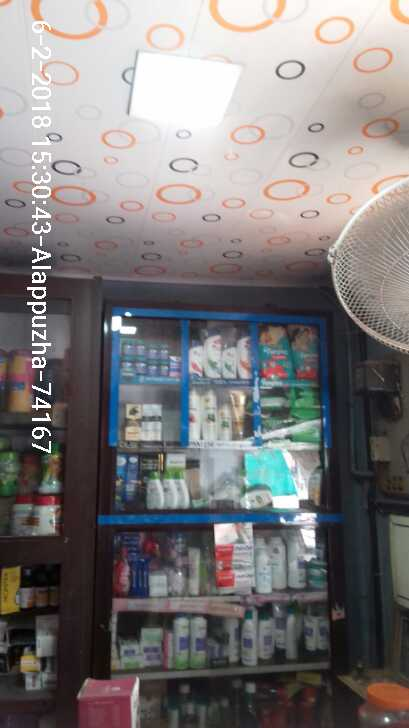vicks: (120, 334, 188, 377)
